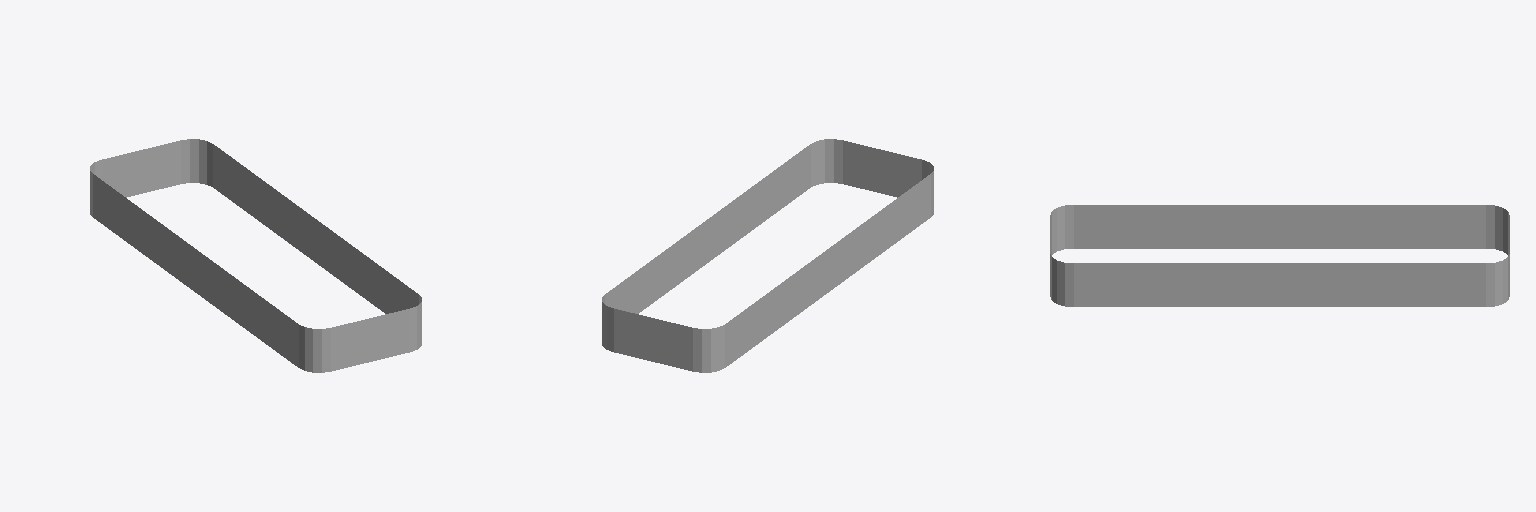
File: STADIUM_COLLIDER_OUTER.obj
3 views of the same model, side by side, from view 1: azimuth 30°, elevation 25°; view 2: azimuth 150°, elevation 25°; view 3: azimuth 270°, elevation 25° (orthographic).
Parts seen in each view (by area): view 1: outer_wall; view 2: outer_wall; view 3: outer_wall.
Boxes of the visible parts, box(x1,y1,x2,y2) form: outer_wall: box(90, 139, 421, 372); outer_wall: box(602, 139, 933, 372); outer_wall: box(1050, 205, 1509, 306).
Size of the model in its own units: 42.93 by 14.93 by 141.